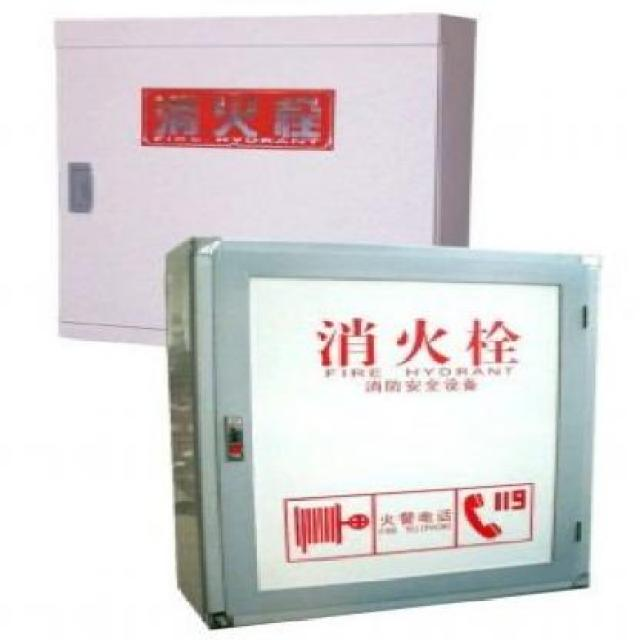firehydrant: (160, 232, 608, 634), (49, 6, 482, 352)
